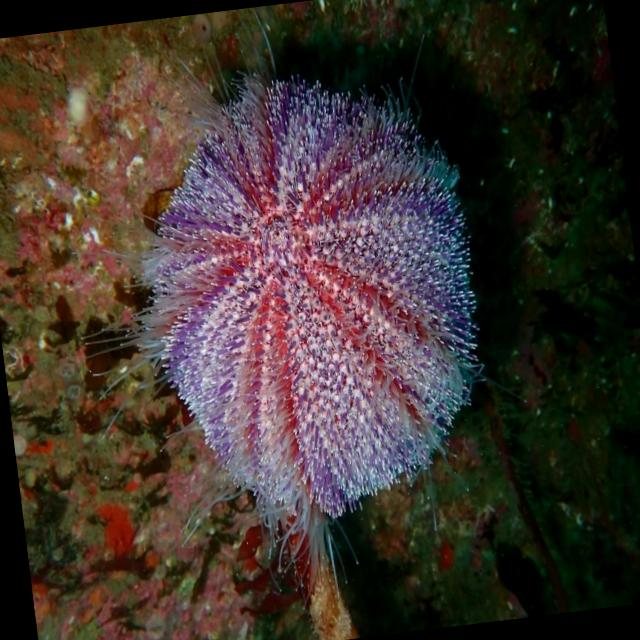Deniz Kestanesi: (43, 0, 509, 629)
